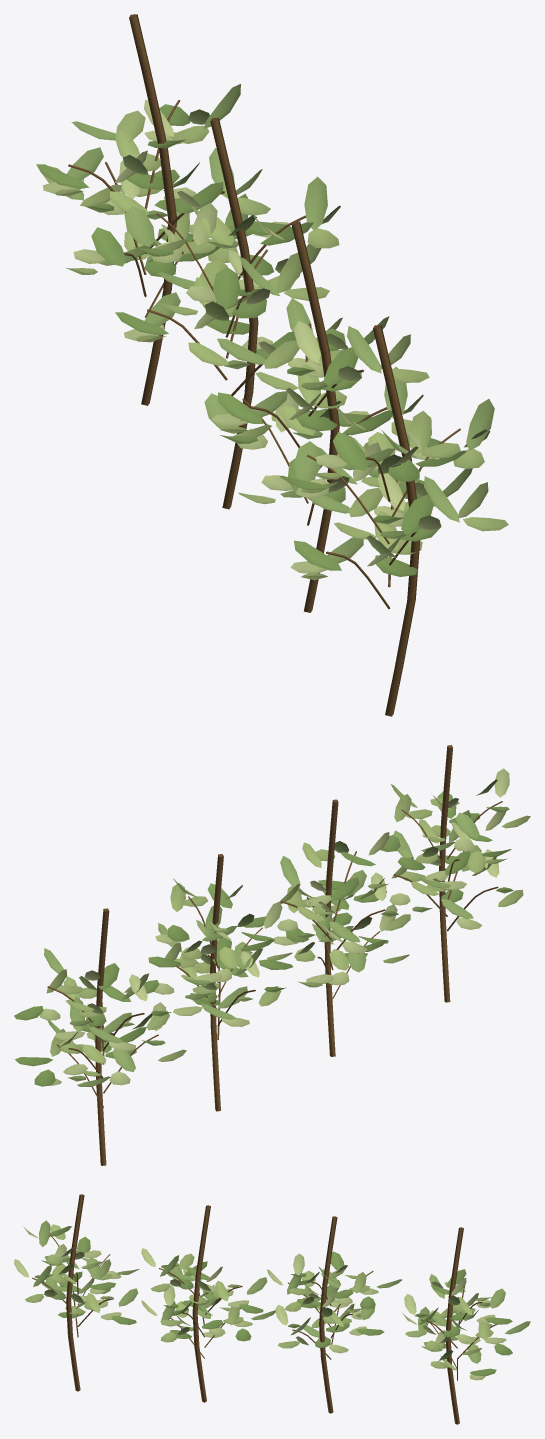
File: window-canopy-v9.glb
3 renders of one model, top to bottom at view 1: azimuth 30°, elevation 25°; view 2: azimuth 150°, elevation 25°; view 3: azimuth 270°, elevation 25°, orthographic. The views are drawn at different scales.
Visible parts, largest first — view 1: window-canopy-v9; view 2: window-canopy-v9; view 3: window-canopy-v9.
Part boxes in pixels (x1,y1,x2,y2): window-canopy-v9: (36, 14, 508, 716); window-canopy-v9: (14, 745, 530, 1165); window-canopy-v9: (14, 1194, 530, 1424).
Size of the model in its own units: 2.42 by 2.71 by 6.54.
5 materials, 5 textured.
